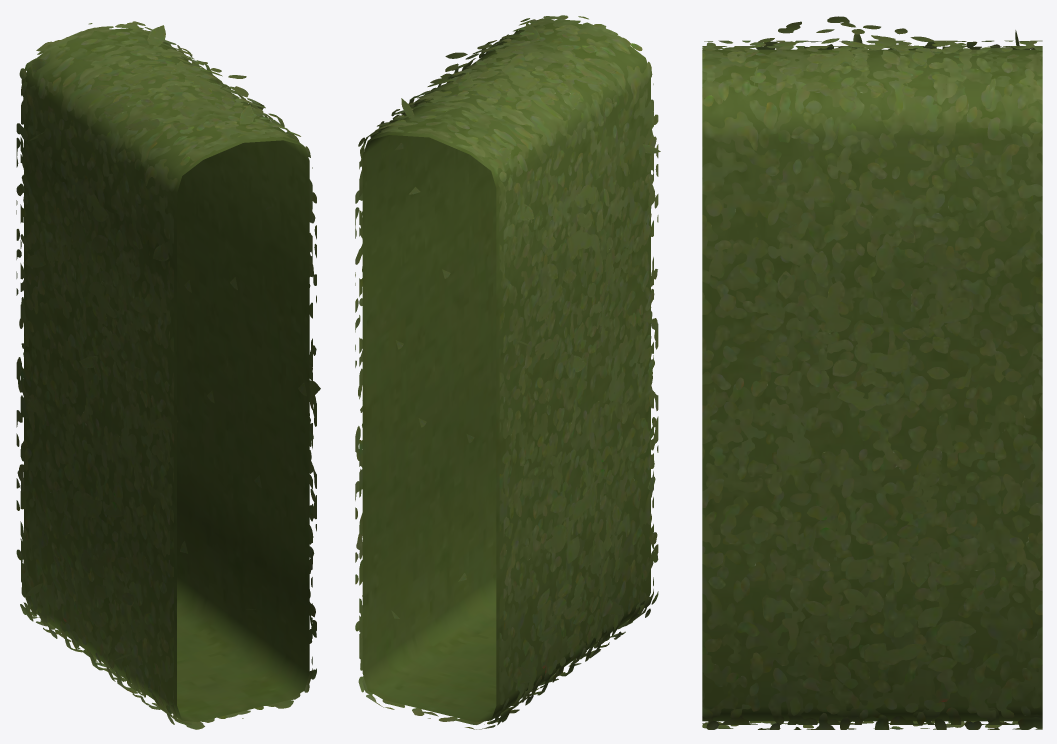
3 views of the same model, side by side, from view 1: azimuth 30°, elevation 25°; view 2: azimuth 150°, elevation 25°; view 3: azimuth 270°, elevation 25° (orthographic). The views are drawn at different scales.
Parts seen in each view (by area): view 1: body0_model0_lod0_mesh0; view 2: body0_model0_lod0_mesh0; view 3: body0_model0_lod0_mesh0.
Boxes of the visible parts, box(x1,y1,x2,y2) form: body0_model0_lod0_mesh0: box(16, 21, 320, 729); body0_model0_lod0_mesh0: box(355, 15, 660, 729); body0_model0_lod0_mesh0: box(702, 16, 1042, 729).
Bounding box in the file's own units: 44.38 × 138 × 64.75.
1 material, 1 textured.
